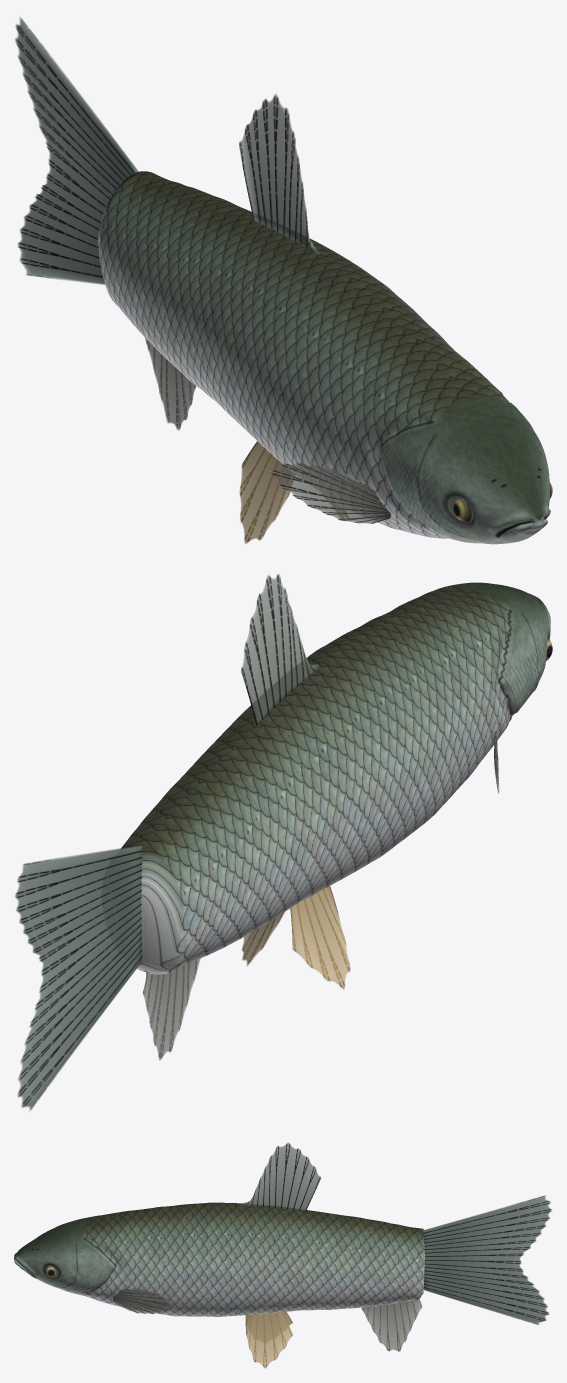
File: amur.glb
3 views of the same model, one above another, from view 1: azimuth 30°, elevation 25°; view 2: azimuth 150°, elevation 25°; view 3: azimuth 270°, elevation 25° (orthographic). The views are drawn at different scales.
Parts seen in each view (by area): view 1: Body, FinCaudal, FinDorsal1, FinPectoral, FinPelvic, FinAnal; view 2: Body, FinCaudal, FinDorsal1, FinPelvic, FinAnal; view 3: Body, FinCaudal, FinDorsal1, FinPelvic, FinAnal, FinPectoral.
Boxes of the visible parts, x1,y1,x2,y2 form: Body: (98, 171, 550, 544); FinCaudal: (15, 17, 138, 284); FinDorsal1: (239, 93, 320, 255); FinPectoral: (270, 463, 390, 523); FinPelvic: (239, 441, 348, 544); FinAnal: (144, 337, 196, 430); Body: (121, 582, 550, 974); FinCaudal: (15, 845, 142, 1110); FinDorsal1: (241, 574, 320, 725); FinPelvic: (241, 886, 350, 989); FinAnal: (143, 958, 200, 1060); Body: (14, 1202, 424, 1316); FinCaudal: (423, 1195, 551, 1324); FinDorsal1: (239, 1142, 321, 1211); FinPelvic: (245, 1312, 292, 1368); FinAnal: (361, 1299, 422, 1351); FinPectoral: (112, 1288, 172, 1313).
Bounding box in the file's own units: 0.2518 × 0.4424 × 1.
8 materials, 7 textured.
